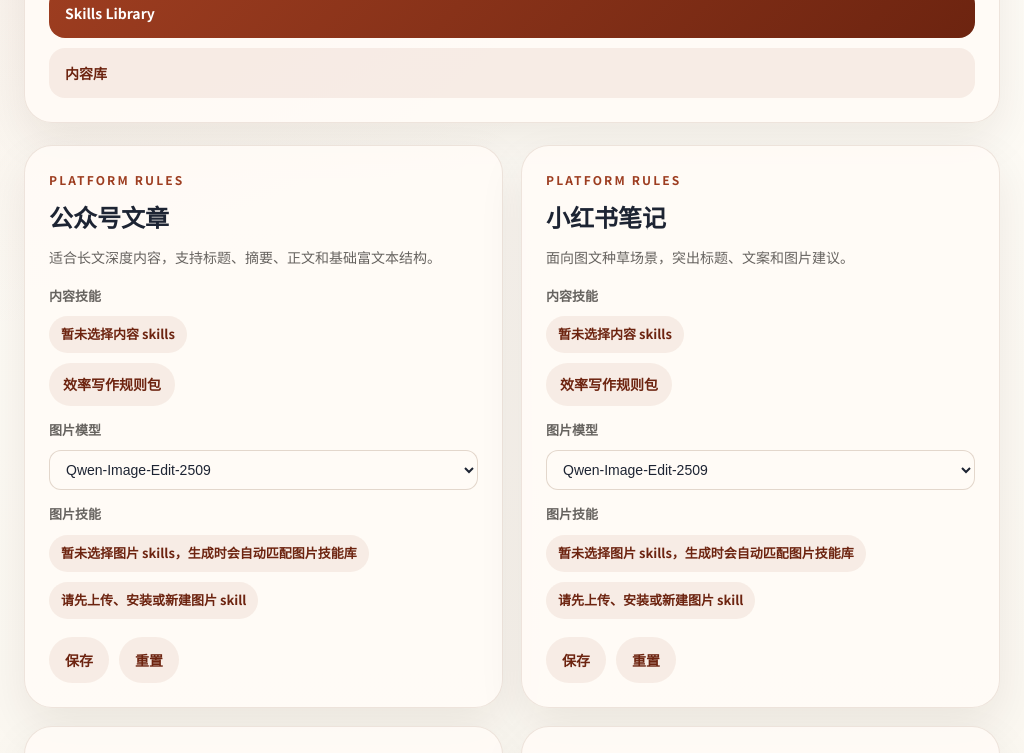
Scenario: SettingsShell › renders empty platform bindings, anchor navigation, and allows save/reset
(page scrolled)
Expected: the text "暂未选择内容 skills" below "适合长文深度内容，支持标题、摘要、正文和基础富文本结构。" is shown, [61,324,175,344]
Click the button "效率写作规则包" below "适合长文深度内容，支持标题、摘要、正文和基础富文本结构。" at [112, 384], box [49,363,175,406]
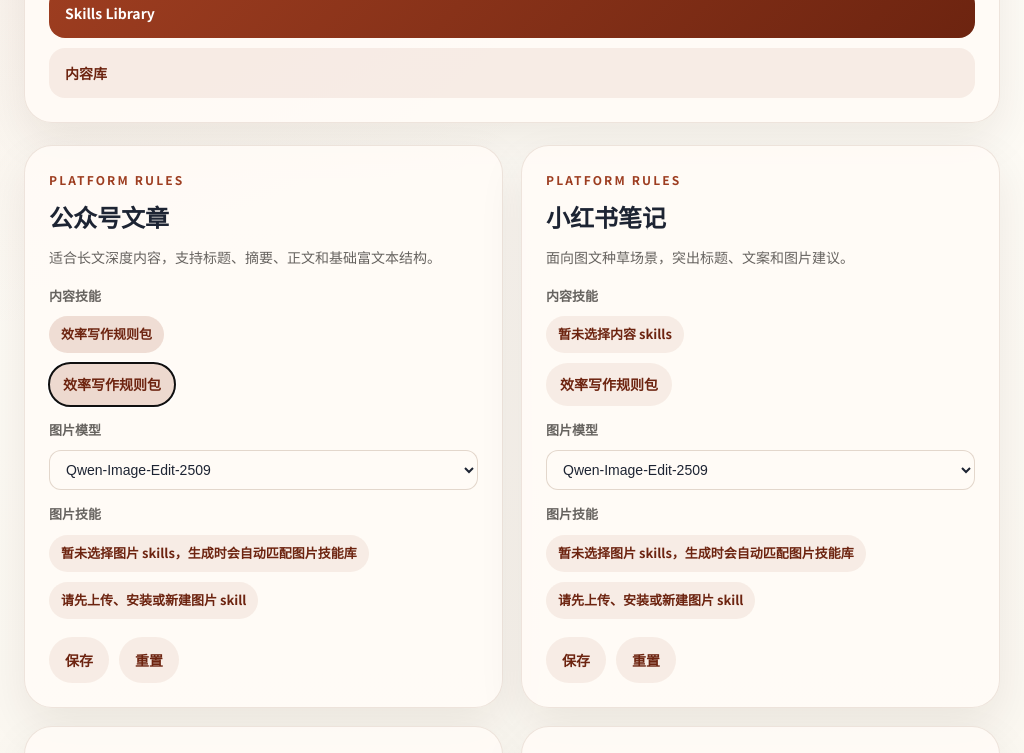
Click the 1st button "保存" at [79, 660], box [49,637,109,683]
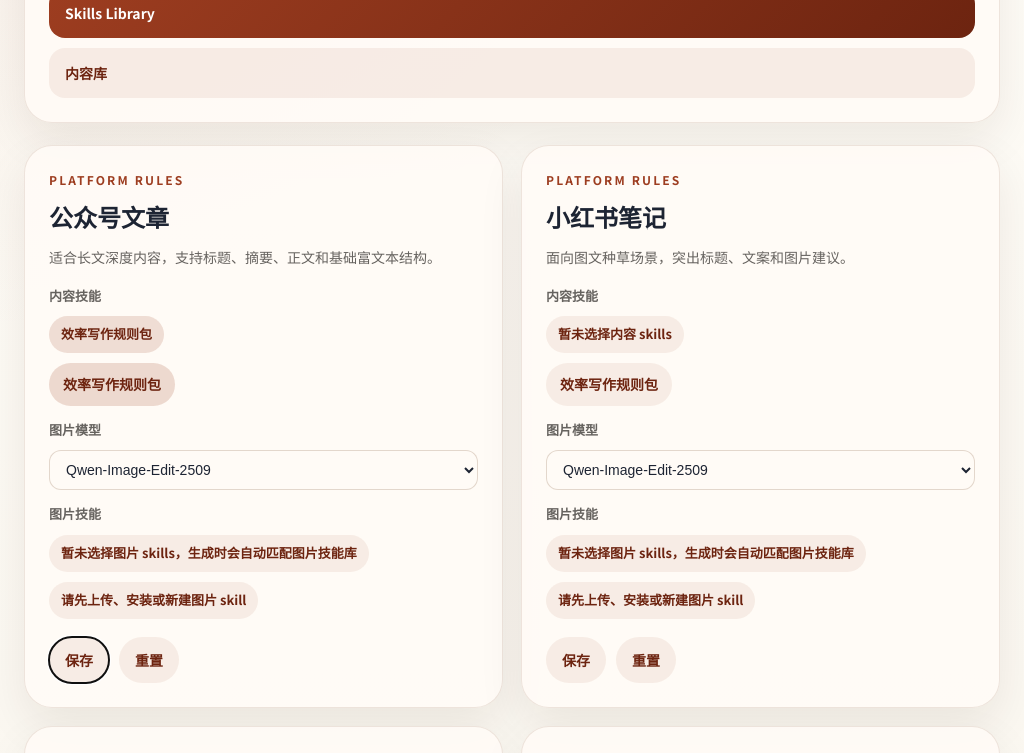
Click the 1st button "重置" at [149, 660], box [119,637,179,683]
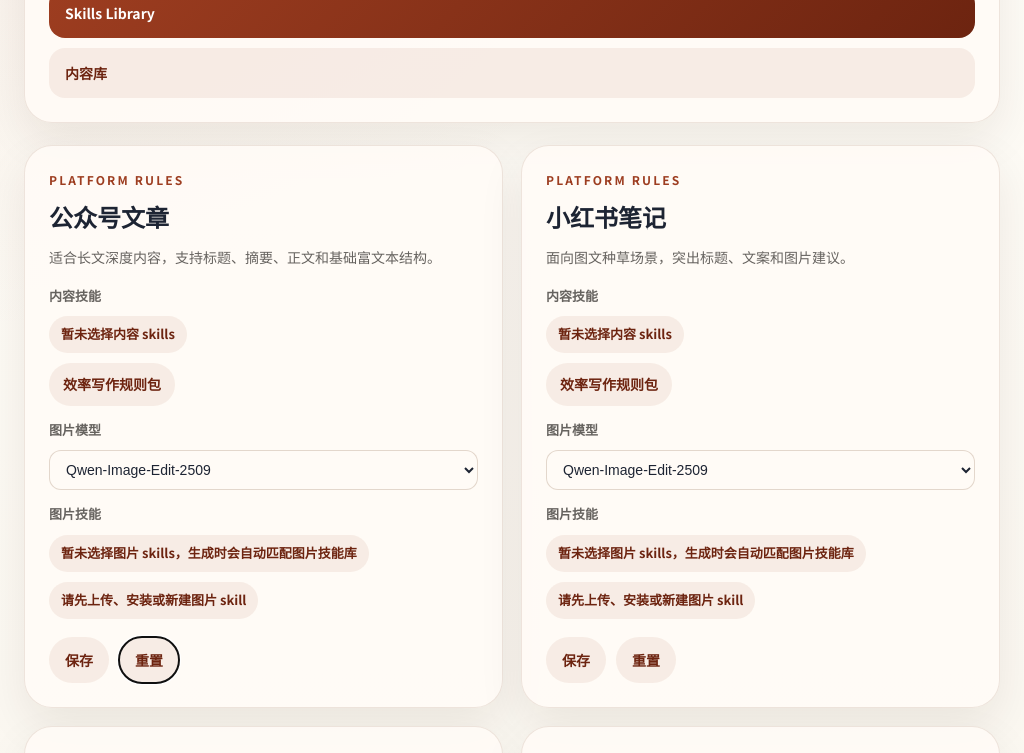
Result: the text "暂未选择内容 skills" below "适合长文深度内容，支持标题、摘要、正文和基础富文本结构。" is shown at [61,324,175,344]
